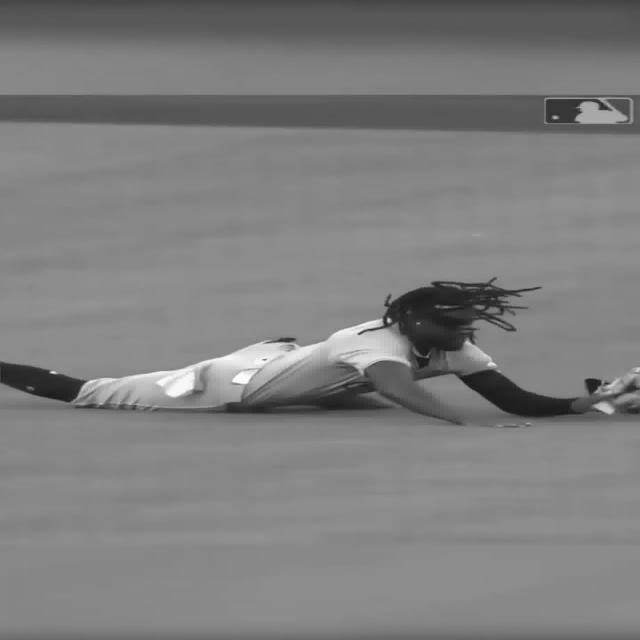baseball_glove: (595, 371, 640, 412)
